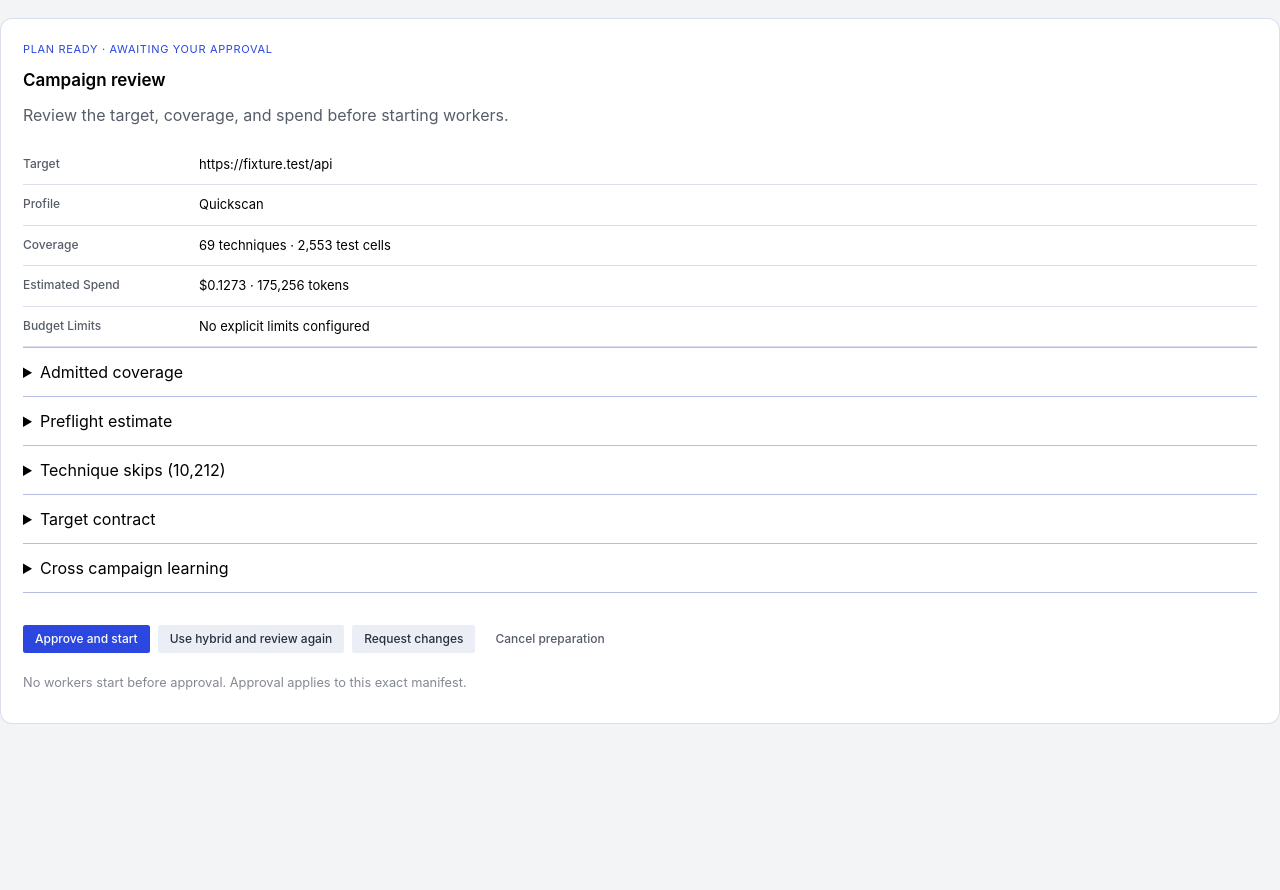
Test: keeps huge reviews collapsed and pages separated technique names and languages
Check: the text "No explicit limits configured" is shown, box x1=199 y1=318 x2=370 y2=334
Click the heading "Technique skips (10,212)" at (133, 470), box x1=40 y1=460 x2=226 y2=480
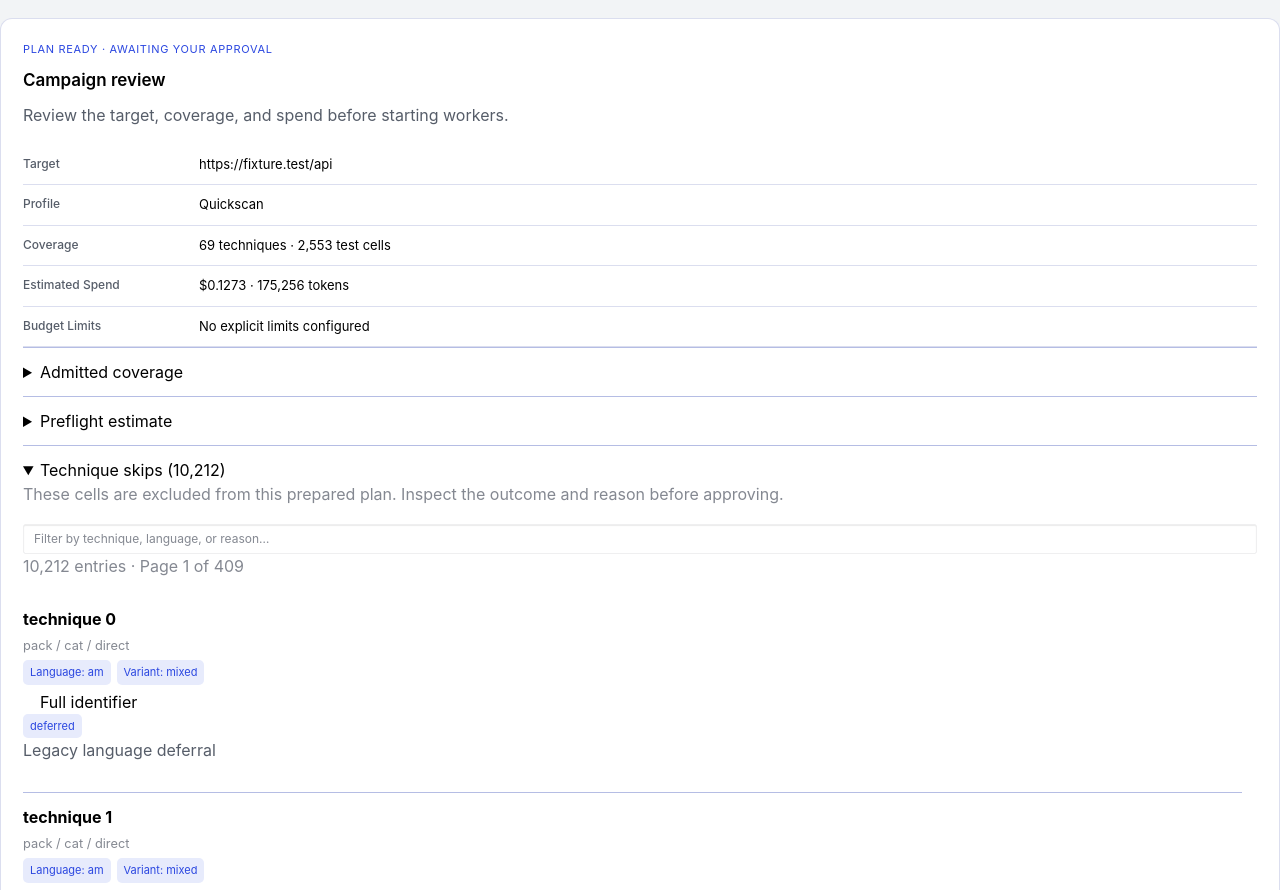
Check: the text "Language: am" is shown 25 times
Type "technique-10211@" into the field named "Filter review entries" at (640, 539), box x1=23 y1=524 x2=1257 y2=554
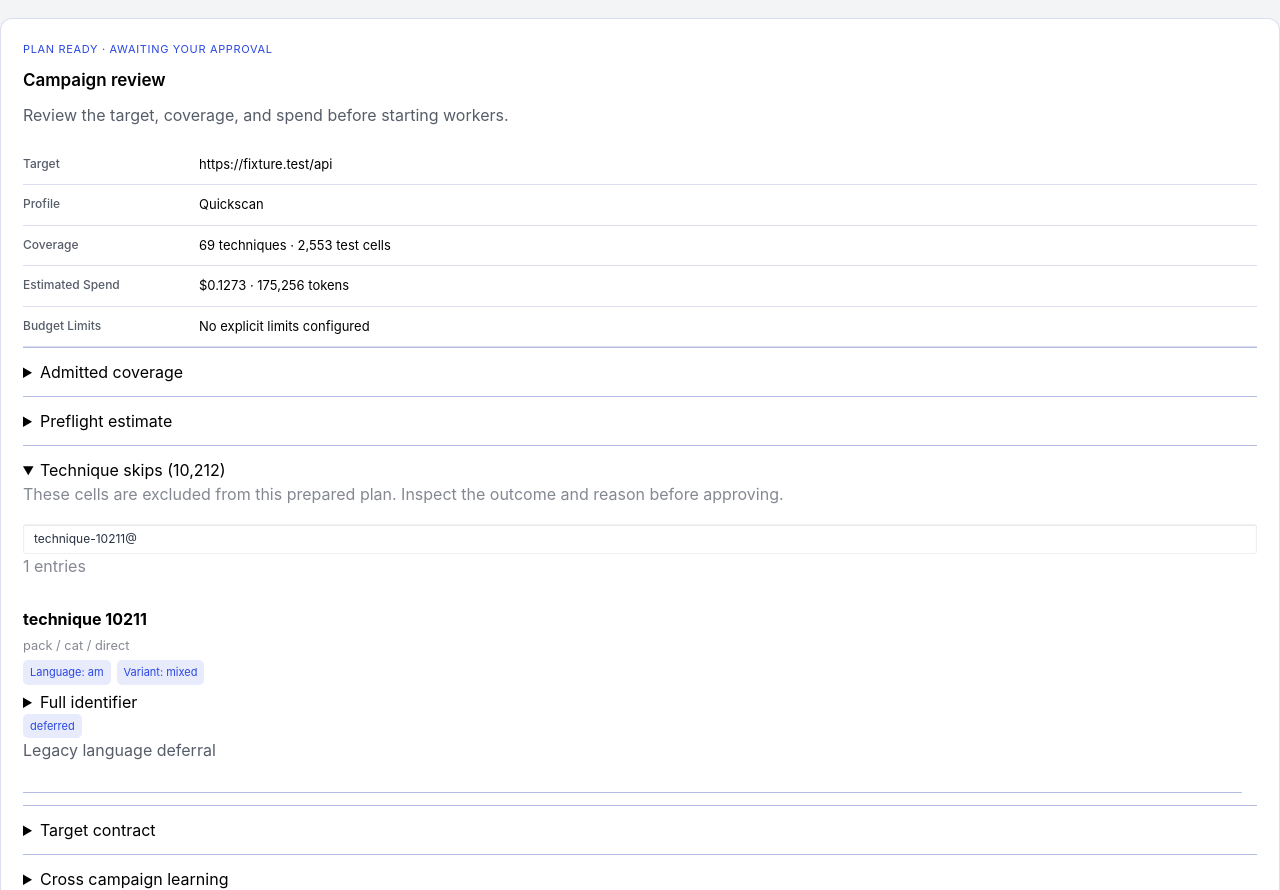
Check: the text "Language: am" is shown once, box x1=23 y1=660 x2=111 y2=685
Check: the text "technique 10211" is shown, box x1=23 y1=609 x2=147 y2=629
